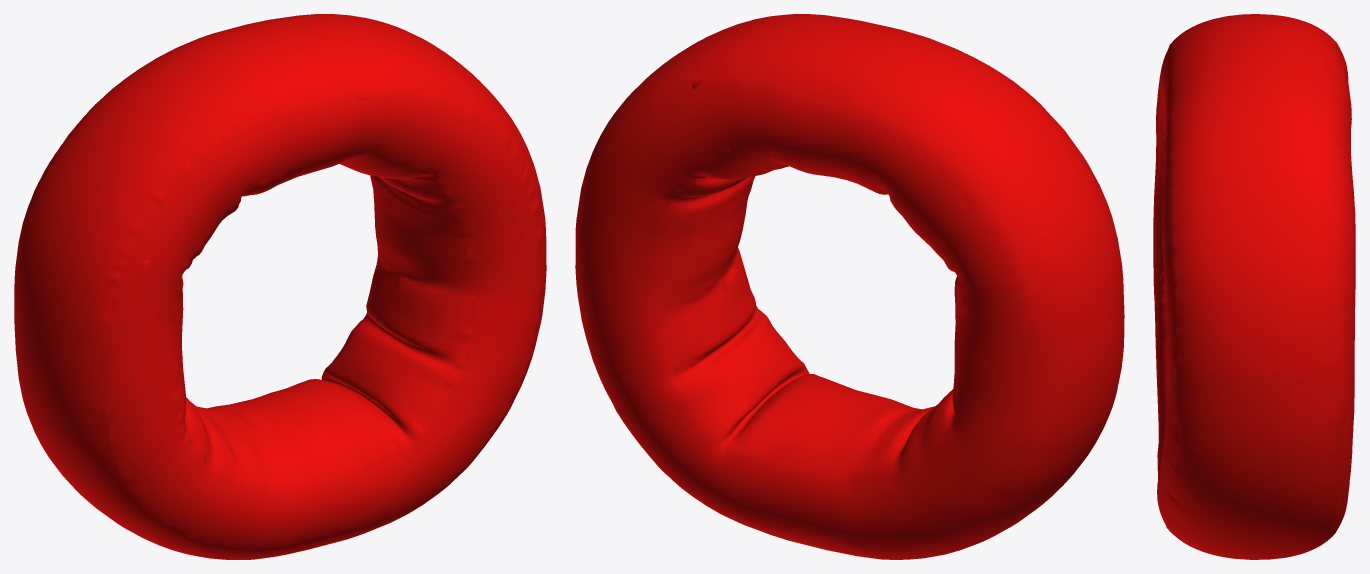
Rendered from SM_SM_HeartBalloon_03.fbx.
3 renders of one model, left to right at view 1: azimuth 30°, elevation 25°; view 2: azimuth 150°, elevation 25°; view 3: azimuth 270°, elevation 25°, orthographic. The views are drawn at different scales.
Parts seen in each view (by area): view 1: SM_HeartBalloon_03; view 2: SM_HeartBalloon_03; view 3: SM_HeartBalloon_03.
Part boxes in pixels (left/top/right/bottom): SM_HeartBalloon_03: left=14, top=14, right=546, bottom=559; SM_HeartBalloon_03: left=575, top=14, right=1124, bottom=559; SM_HeartBalloon_03: left=1153, top=14, right=1355, bottom=559.
Size of the model in its own units: 89.14 by 85.5 by 32.67.
